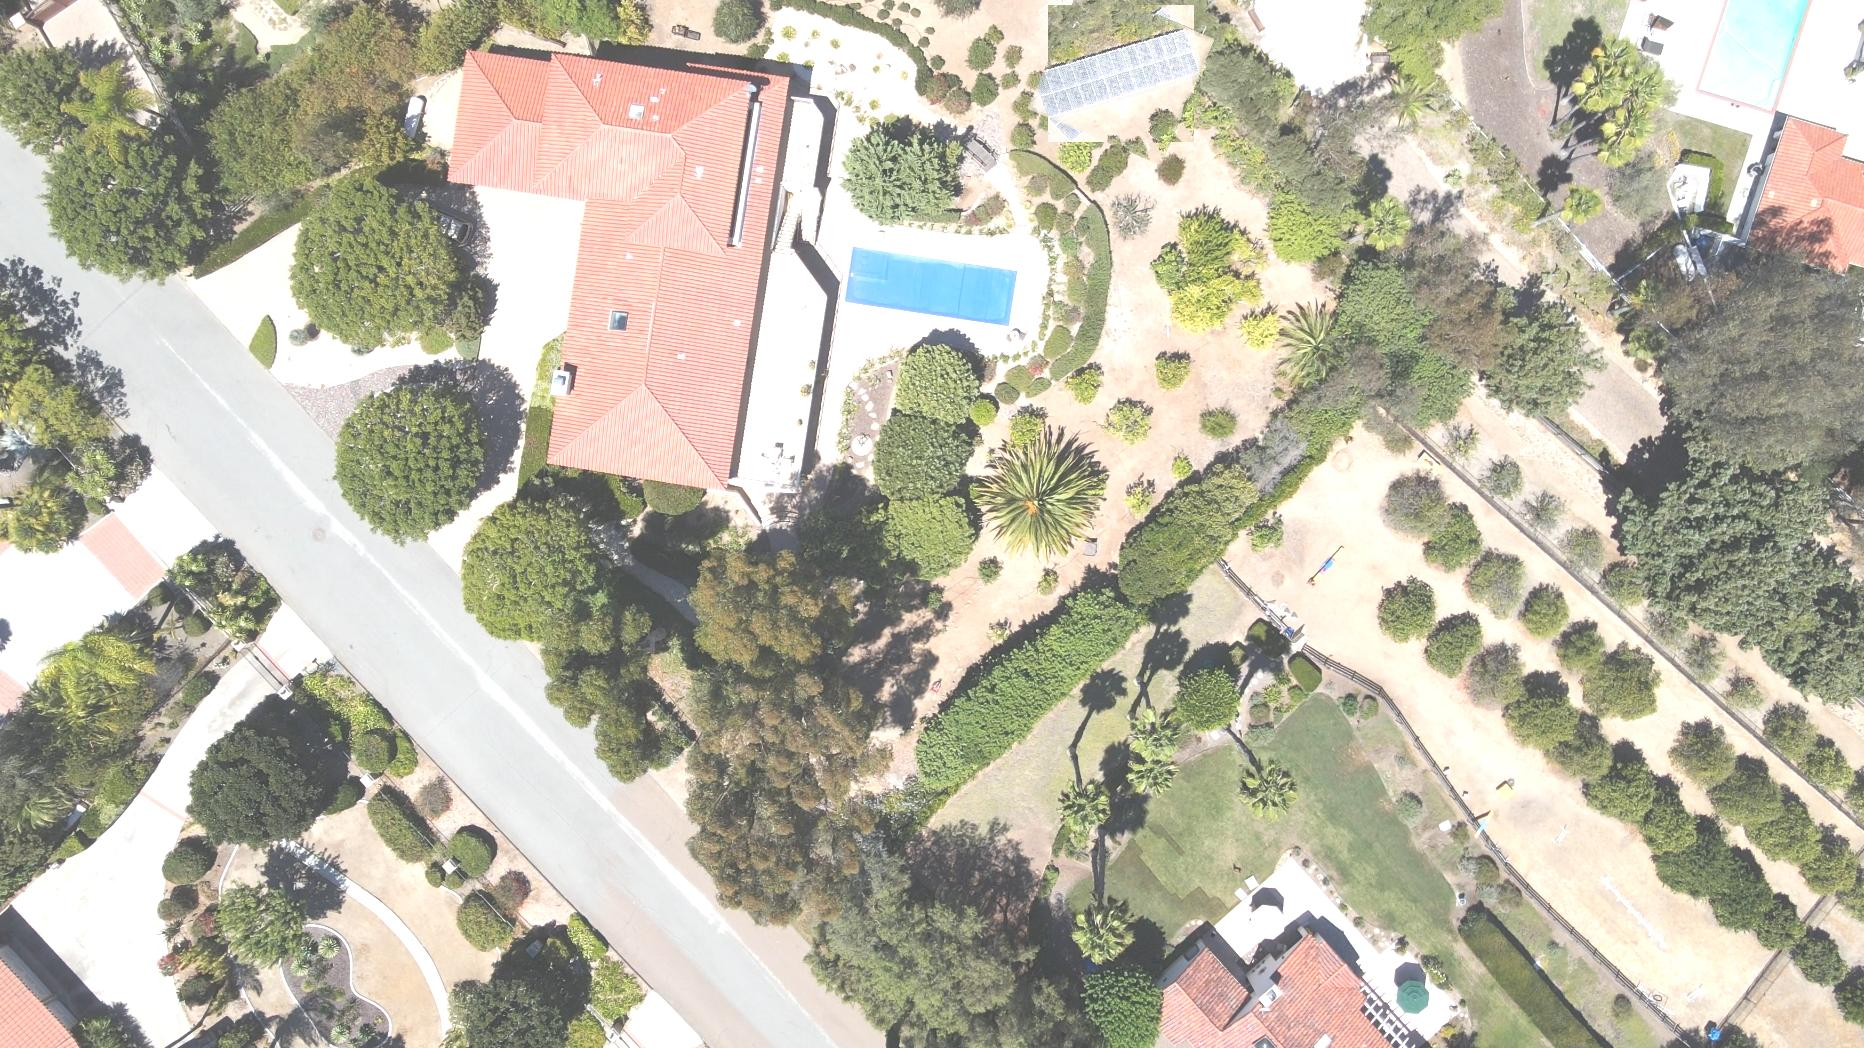solar-panels: (1037, 27, 1202, 118)
